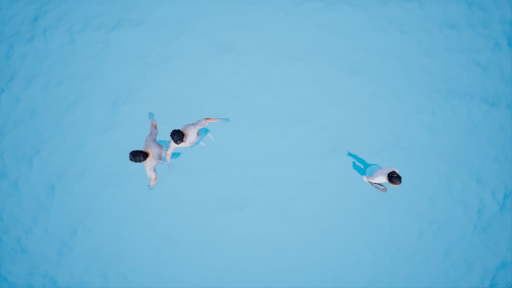person: (119, 110, 178, 185), (168, 102, 229, 168), (342, 147, 408, 200)
